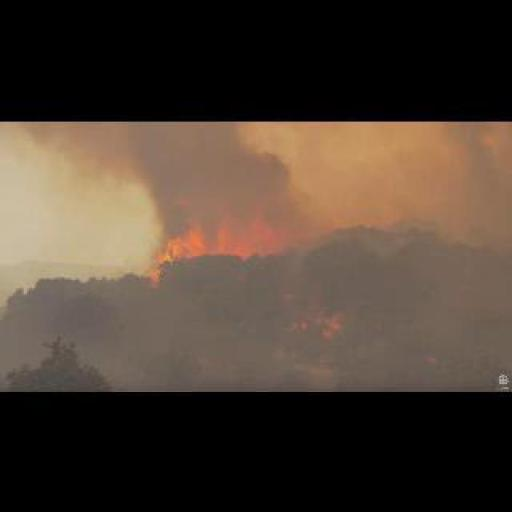smoke: (36, 117, 296, 221), (146, 203, 292, 288), (312, 302, 342, 326), (286, 320, 308, 330), (322, 330, 332, 338)
